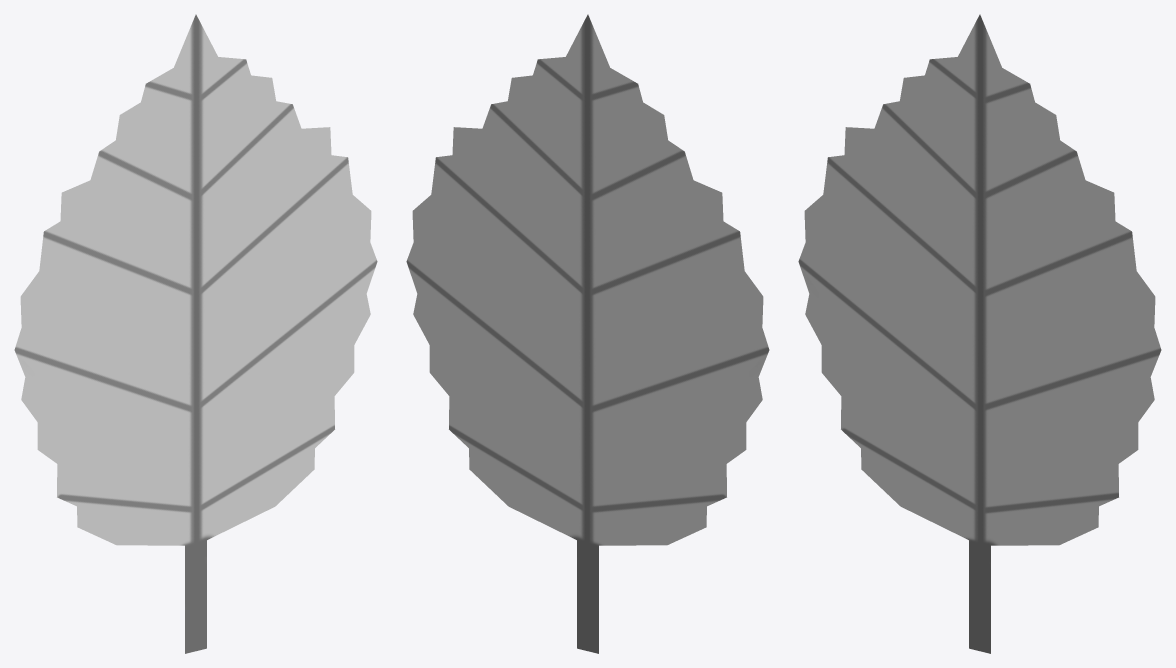
Rendered from Leaf1.gltf.
The picture shows the model from 3 angles, left to right: view 1: azimuth 30°, elevation 25°; view 2: azimuth 150°, elevation 25°; view 3: azimuth 330°, elevation 25°; orthographic projection.
Visible parts, largest first — view 1: Leaf1; view 2: Leaf1; view 3: Leaf1.
Boxes of the visible parts, left/top/right/bottom form: Leaf1: left=14, top=14, right=377, bottom=653; Leaf1: left=406, top=14, right=769, bottom=653; Leaf1: left=798, top=14, right=1161, bottom=653.
Bounding box in the file's own units: 0.1829 × 0.3068 × 4.9e-09.
Materials: 1 (1 with a texture image).
